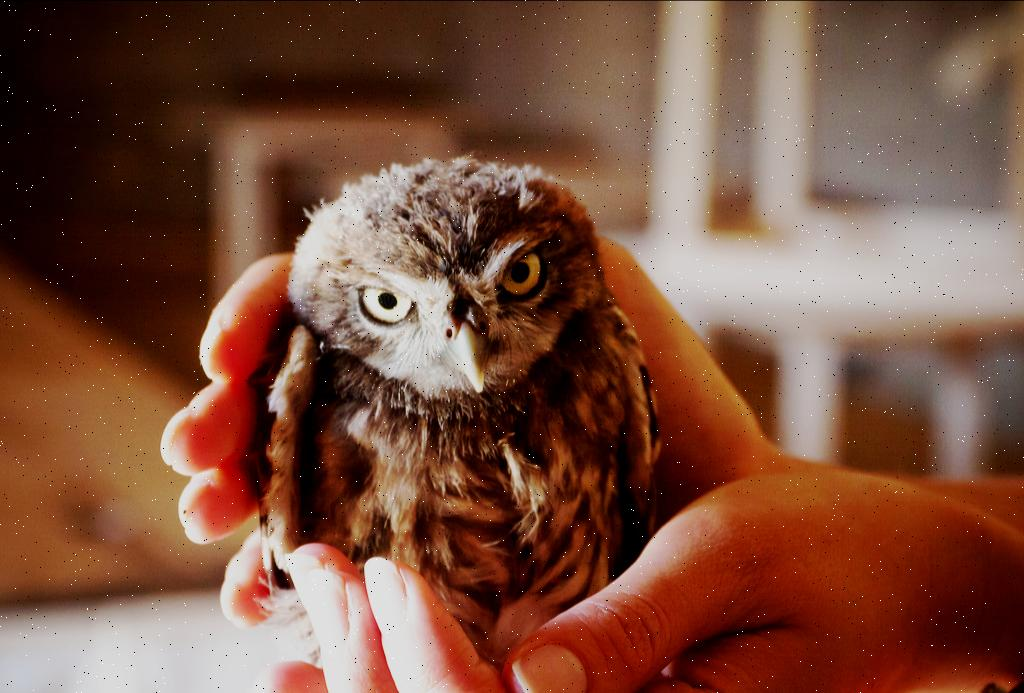Owl: (251, 151, 676, 687)
